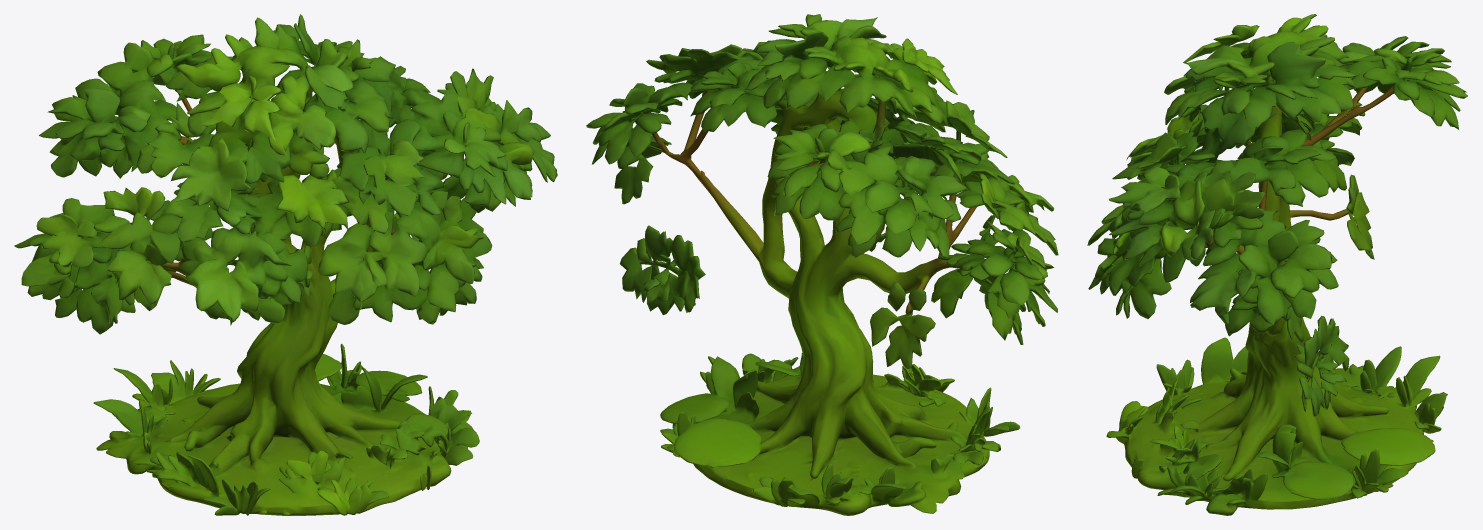
The model's file is mulberry.glb.
The picture shows the model from 3 angles, left to right: view 1: azimuth 30°, elevation 25°; view 2: azimuth 150°, elevation 25°; view 3: azimuth 270°, elevation 25°; orthographic projection.
Parts seen in each view (by area): view 1: tripo_node_aaaf4d65-dc5f-44b6-bb8e-cd37d8e47e1b; view 2: tripo_node_aaaf4d65-dc5f-44b6-bb8e-cd37d8e47e1b; view 3: tripo_node_aaaf4d65-dc5f-44b6-bb8e-cd37d8e47e1b.
Boxes of the visible parts, x1,y1,x2,y2 form: tripo_node_aaaf4d65-dc5f-44b6-bb8e-cd37d8e47e1b: [14, 14, 557, 515]; tripo_node_aaaf4d65-dc5f-44b6-bb8e-cd37d8e47e1b: [586, 14, 1058, 515]; tripo_node_aaaf4d65-dc5f-44b6-bb8e-cd37d8e47e1b: [1087, 14, 1467, 515].
Size of the model in its own units: 1 by 0.8192 by 0.6854.
Materials: 1 (1 with a texture image).
